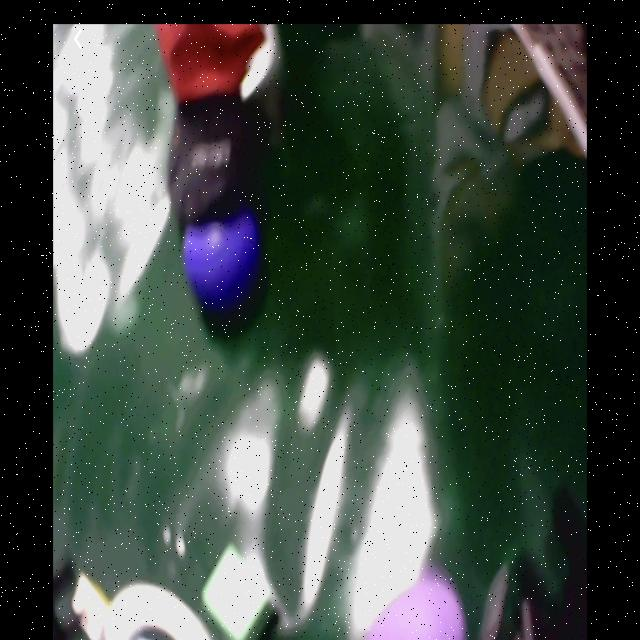ball: (184, 210, 263, 304), (372, 573, 468, 640)
